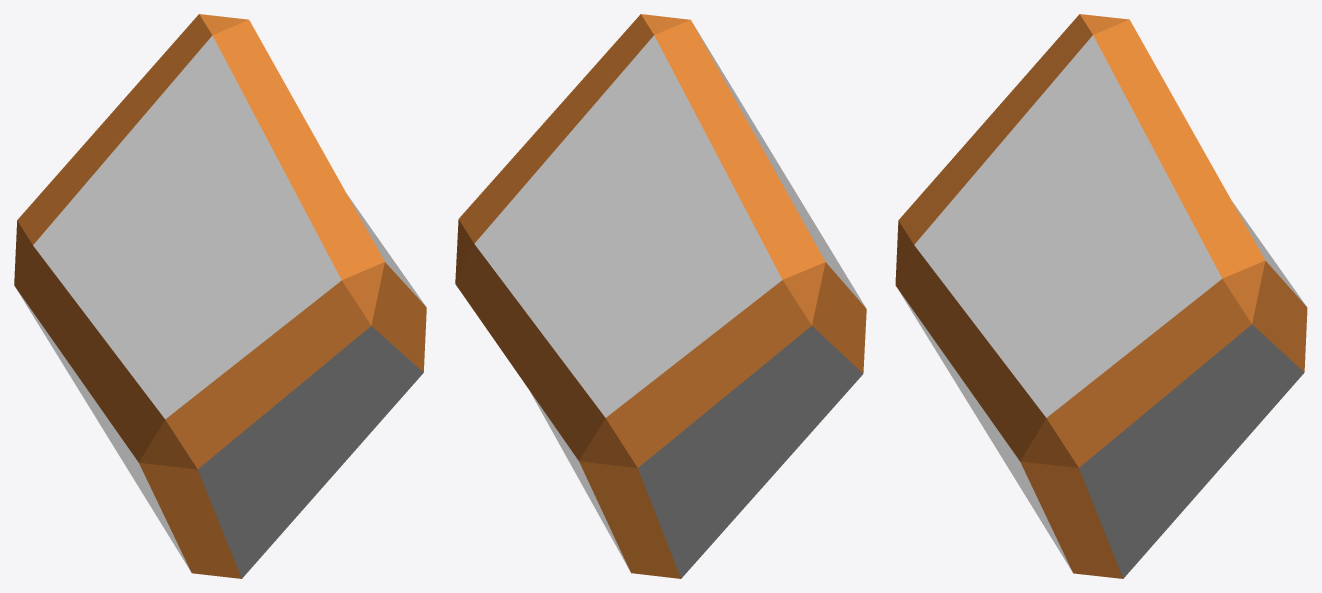
Rendered from AbilityUnlockPickup.fbx.
3 views of the same model, side by side, from view 1: azimuth 30°, elevation 25°; view 2: azimuth 150°, elevation 25°; view 3: azimuth 270°, elevation 25° (orthographic).
Visible parts, largest first — view 1: Cube; view 2: Cube; view 3: Cube.
Boxes of the visible parts, x1,y1,x2,y2 form: Cube: (14,14,426,578); Cube: (455,14,866,578); Cube: (895,14,1307,578).
Bounding box in the file's own units: 271 × 398 × 271.
